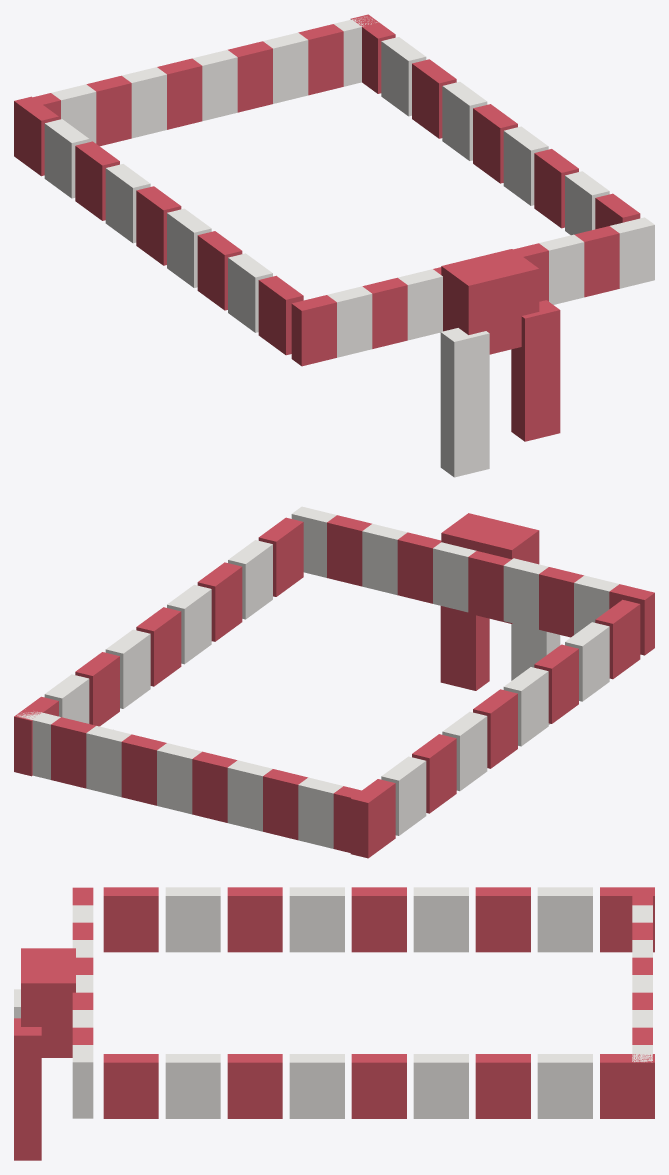
The model's file is bandana_listrada.glb.
The picture shows the model from 3 angles, top to bottom: view 1: azimuth 30°, elevation 25°; view 2: azimuth 150°, elevation 25°; view 3: azimuth 270°, elevation 25°; orthographic projection.
Visible parts, largest first — view 1: bandana_listrada; view 2: bandana_listrada; view 3: bandana_listrada.
Boxes of the visible parts, bbox=[...] form: bandana_listrada: bbox=[14, 14, 654, 477]; bandana_listrada: bbox=[14, 506, 654, 858]; bandana_listrada: bbox=[14, 887, 654, 1160].
Size of the model in its own units: 0.602 by 0.3 by 0.93.
